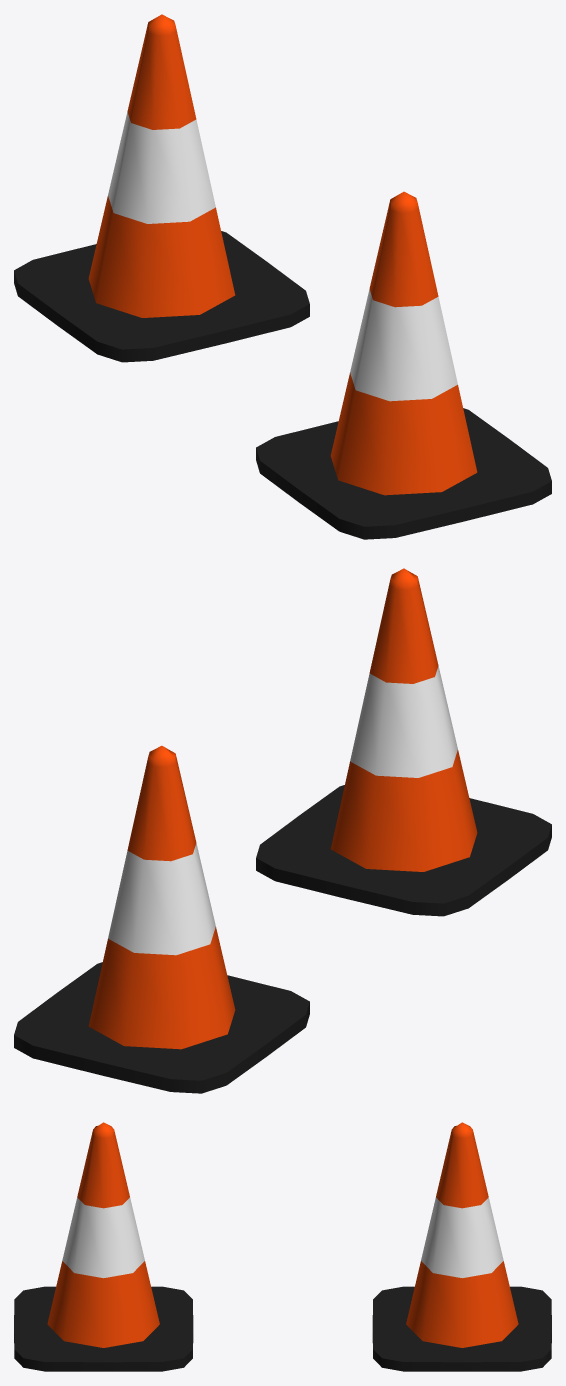
The model's file is OrangeTrafficCone.fbx.
3 renders of one model, top to bottom at view 1: azimuth 30°, elevation 25°; view 2: azimuth 150°, elevation 25°; view 3: azimuth 270°, elevation 25°, orthographic. The views are drawn at different scales.
Parts seen in each view (by area): view 1: Circle; view 2: Circle; view 3: Circle.
Boxes of the visible parts, box(x1,y1,x2,y2) form: Circle: box(14, 14, 551, 539); Circle: box(14, 568, 551, 1093); Circle: box(14, 1122, 551, 1371).
Size of the model in its own units: 50 by 65.1 by 150.
